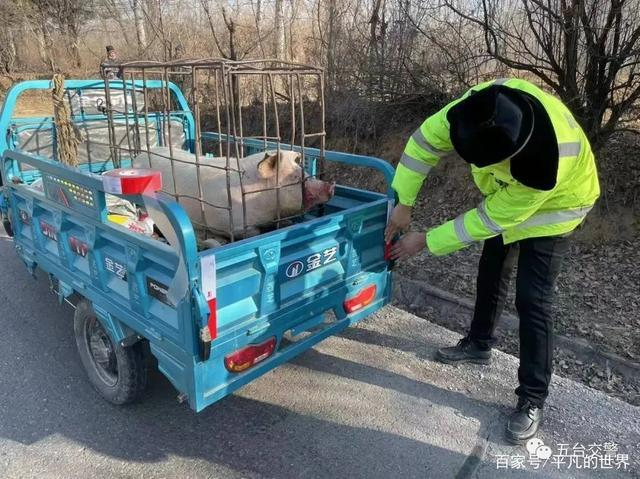empty: (12, 63, 392, 393)
